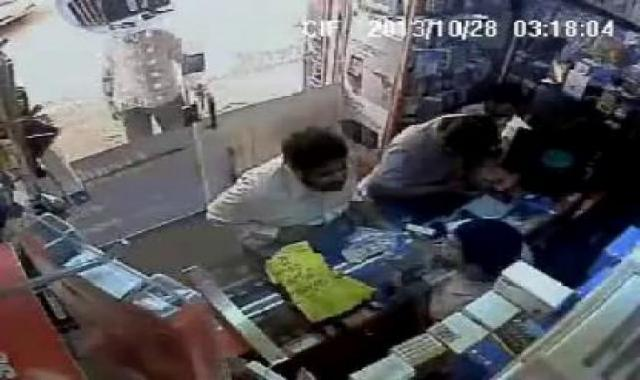no_hairnet: (287, 123, 361, 190)
